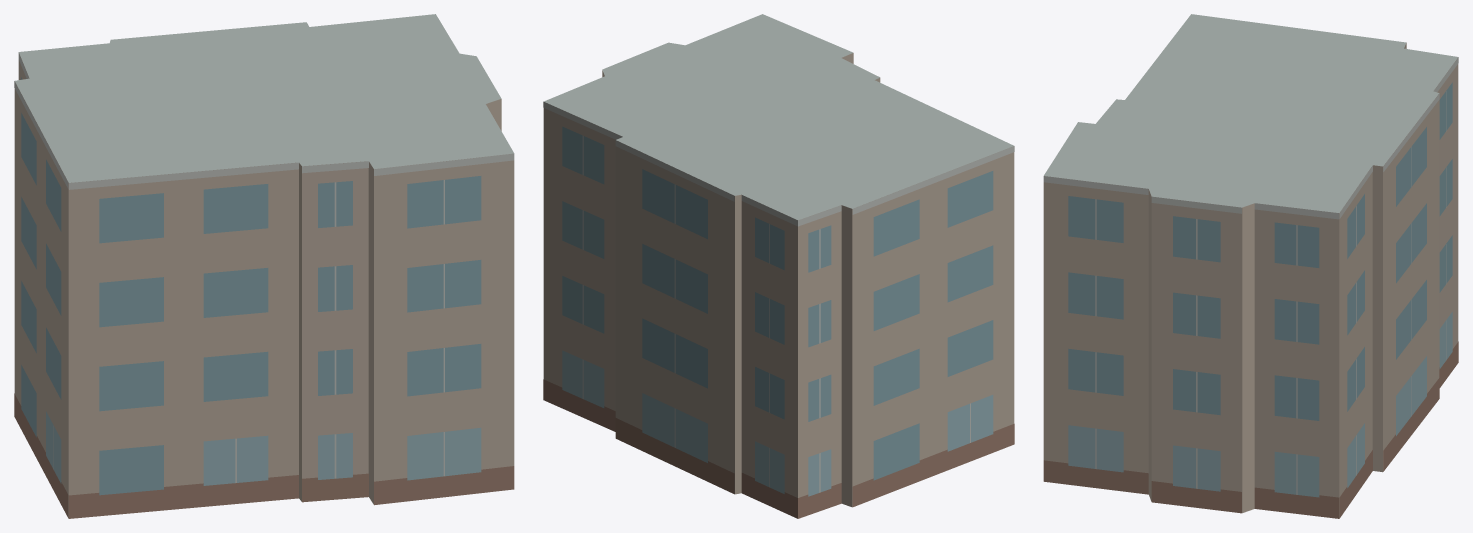
File: survey-upis-32528274.glb
The picture shows the model from 3 angles, left to right: view 1: azimuth 30°, elevation 25°; view 2: azimuth 150°, elevation 25°; view 3: azimuth 270°, elevation 25°; orthographic projection. The views are drawn at different scales.
Parts seen in each view (by area): view 1: survey-upis-32528274.tmp; view 2: survey-upis-32528274.tmp; view 3: survey-upis-32528274.tmp.
Part boxes in pixels (x1,y1,x2,y2): survey-upis-32528274.tmp: (14, 14, 514, 518); survey-upis-32528274.tmp: (543, 14, 1014, 518); survey-upis-32528274.tmp: (1043, 14, 1458, 518).
Bounding box in the file's own units: 16.5 × 11.8 × 14.52.
